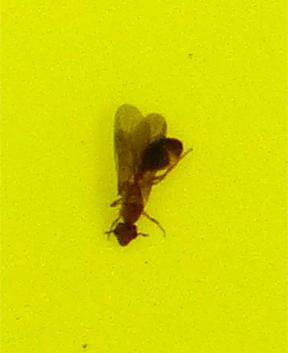Hymenoptera: (100, 100, 188, 253)
